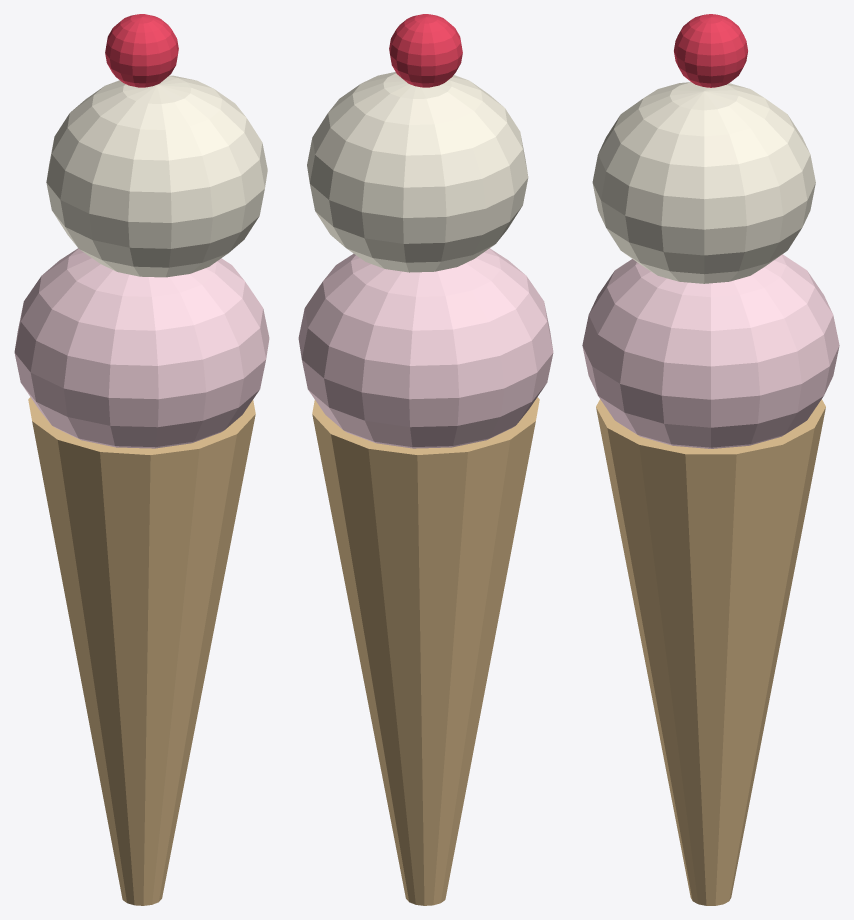
File: icecream.glb
3 renders of one model, left to right at view 1: azimuth 30°, elevation 25°; view 2: azimuth 150°, elevation 25°; view 3: azimuth 270°, elevation 25°, orthographic.
Parts seen in each view (by area): view 1: icecream; view 2: icecream; view 3: icecream.
Boxes of the visible parts, box(x1,y1,x2,y2) form: icecream: box(14, 14, 269, 905); icecream: box(298, 14, 553, 905); icecream: box(582, 14, 839, 905).
Bounding box in the file's own units: 0.076 × 0.287 × 0.076.
